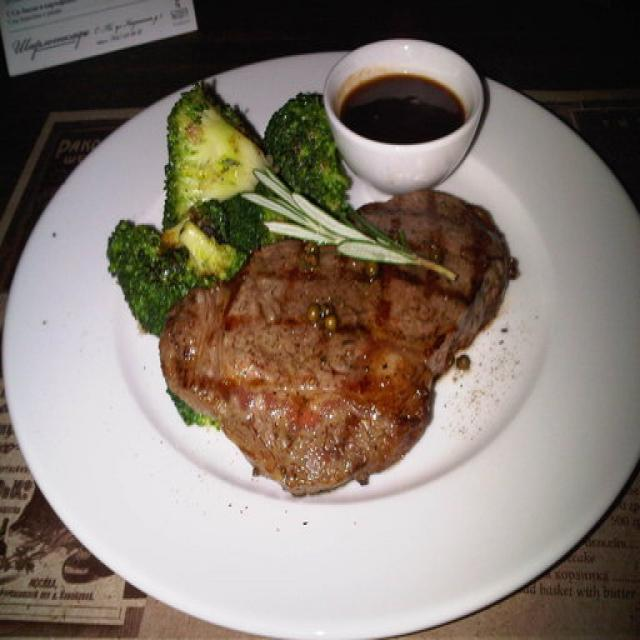Steak: (149, 220, 564, 508)
